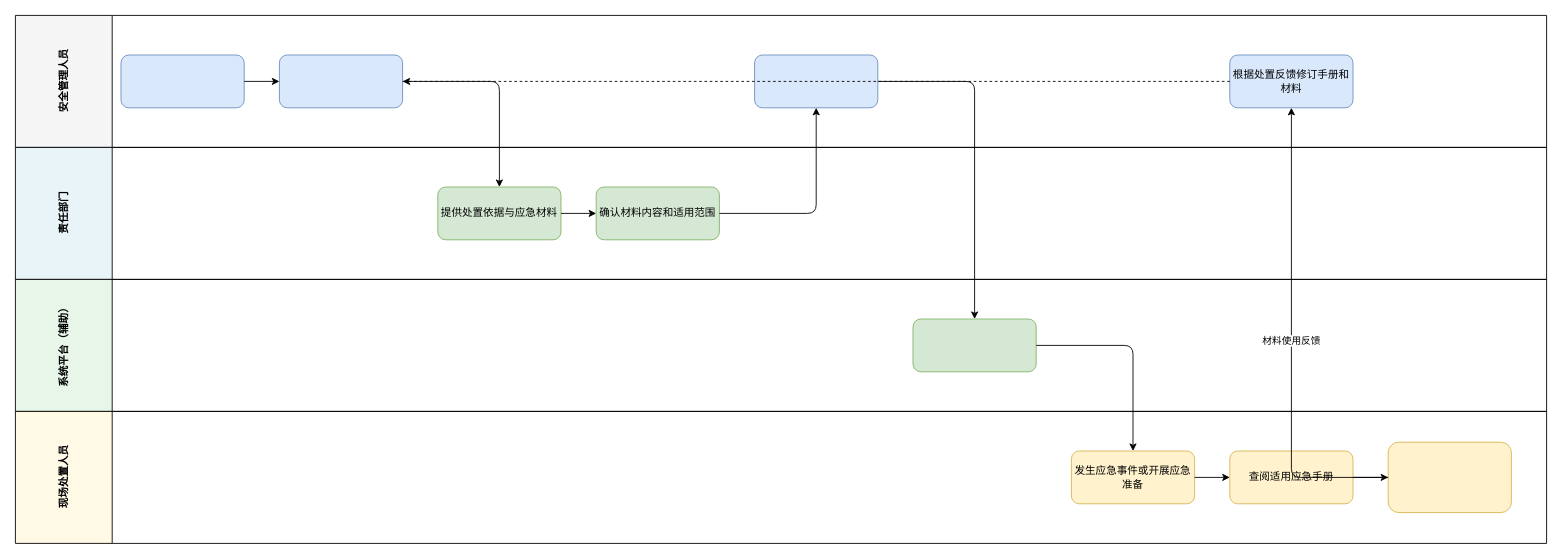
This 1562x559 diagram has some shape labels left out. Each missing label, with the centre of its shape:
"提供手册检索、查阅与材料获取" belongs at (x=974, y=345).
"明确适用事件、区域和责任部门" belongs at (x=341, y=81).
"汇编手册内容并维护版本" belongs at (x=816, y=81).
"获取所需处置文件、路线、图纸或视频" belongs at (x=1449, y=477).
"识别手册新增或更新需求" belongs at (x=182, y=81).
